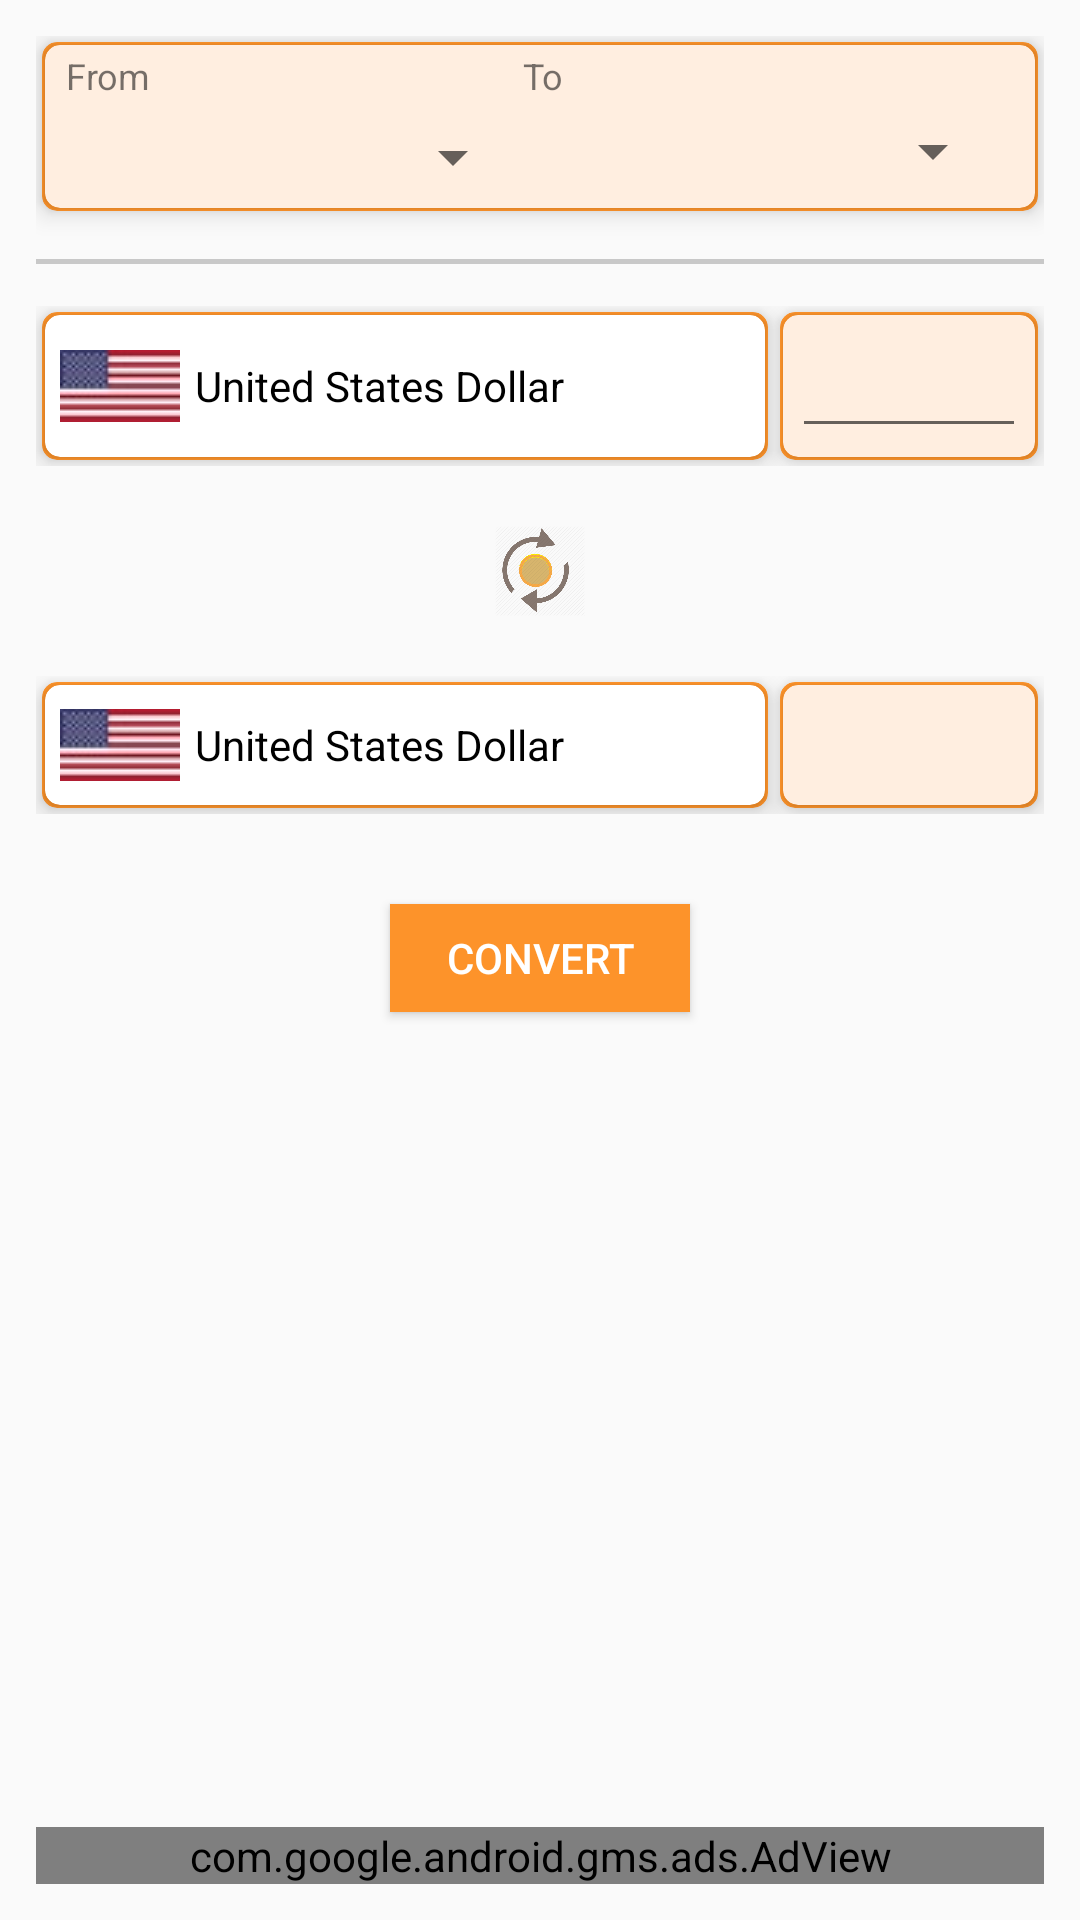

Named icons in this screenshot (1080px×1920px) and their centers, (x=x, y=y):
flag1: (x=120, y=386)
flag2: (x=120, y=745)
